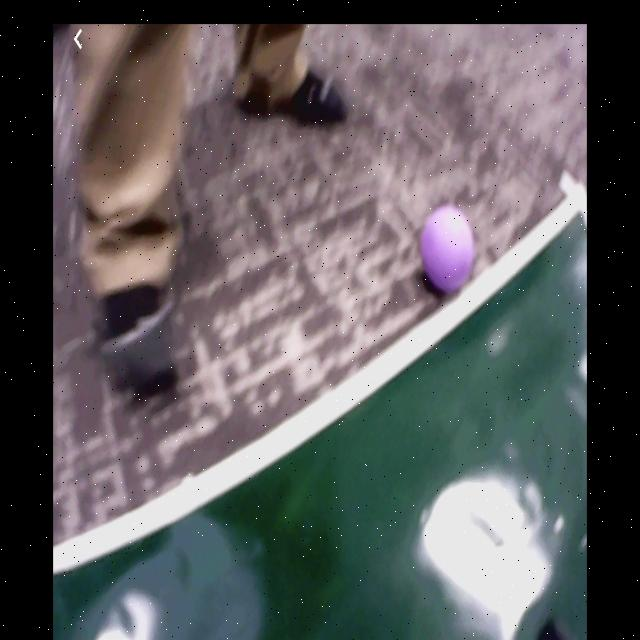ball: (422, 206, 475, 292)
